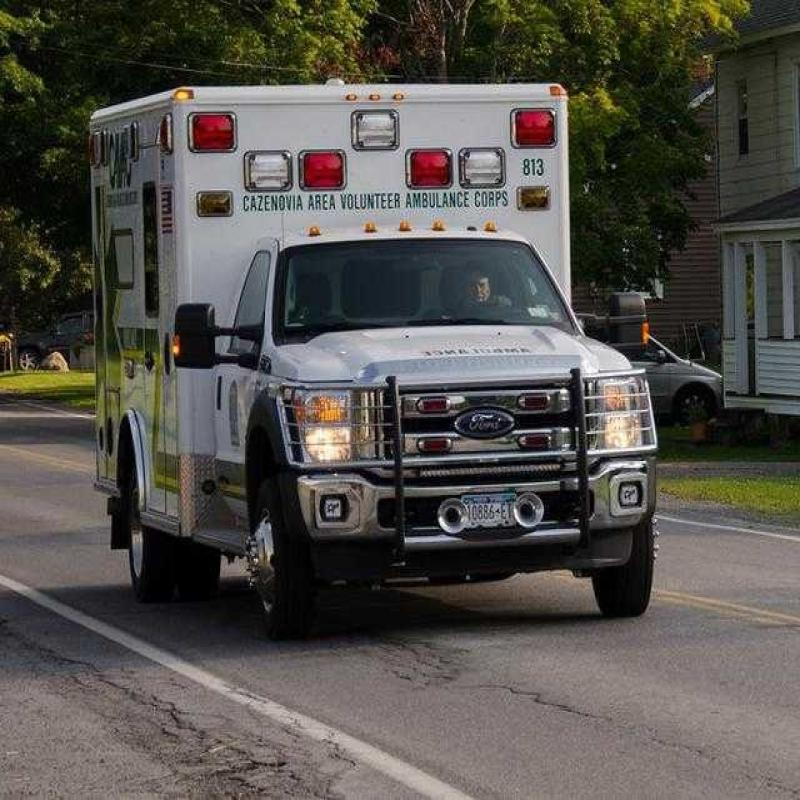AmbulanceSiren: (171, 94, 558, 195)
